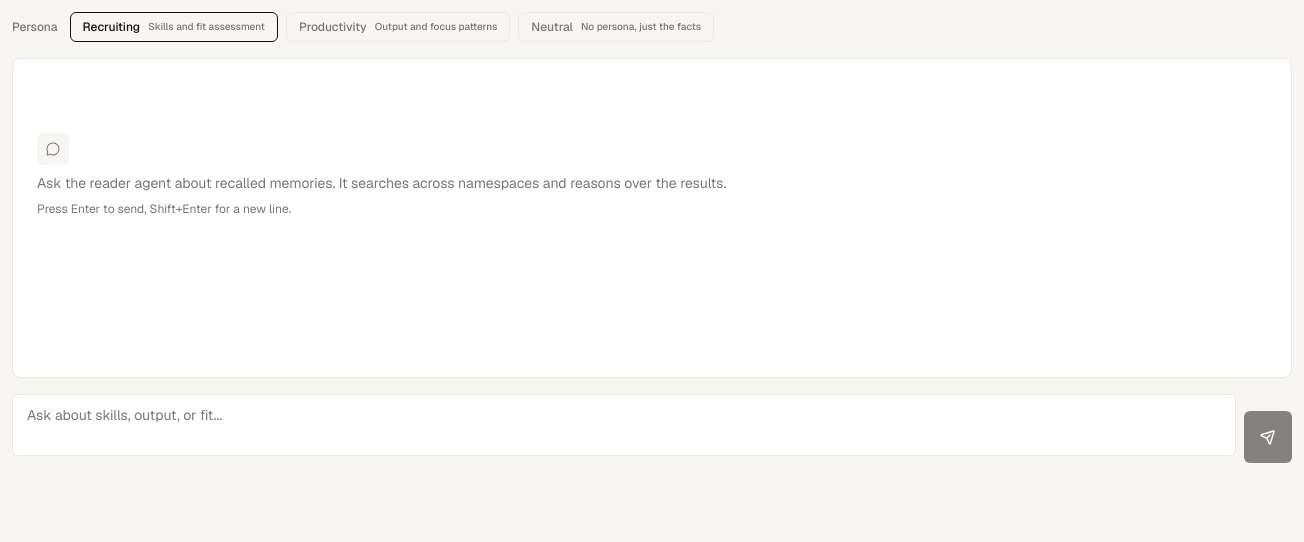
it: <ReaderChat /> › keeps the conversation and shows an error banner on failure
Type "first question" into the text box named "Message" at (624, 425), box [12,394,1236,456]
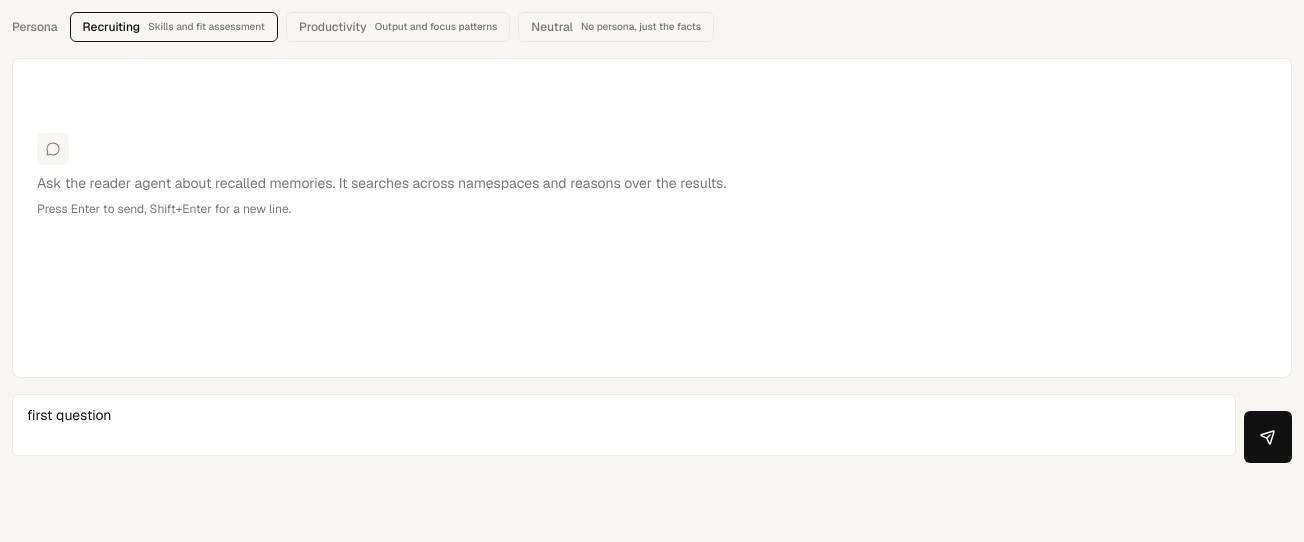
Submit the form named "Message", box [12,394,1292,463]
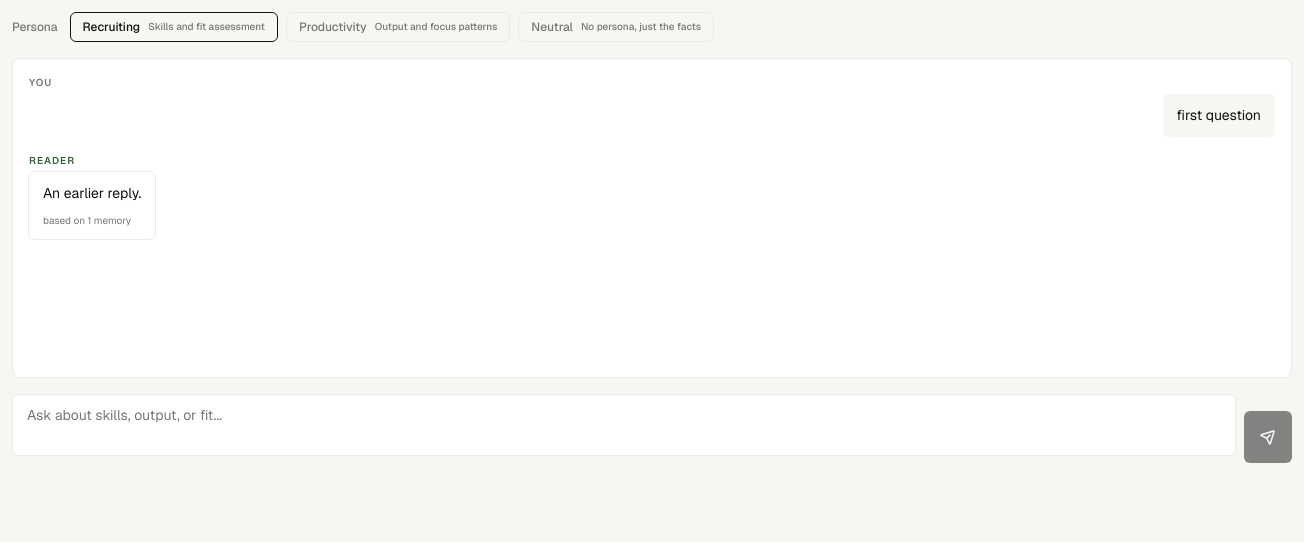
Check: the text "An earlier reply." is shown, box [43,182,141,205]
Type "doomed question" into the text box named "Message" at (624, 425), box [12,394,1236,456]
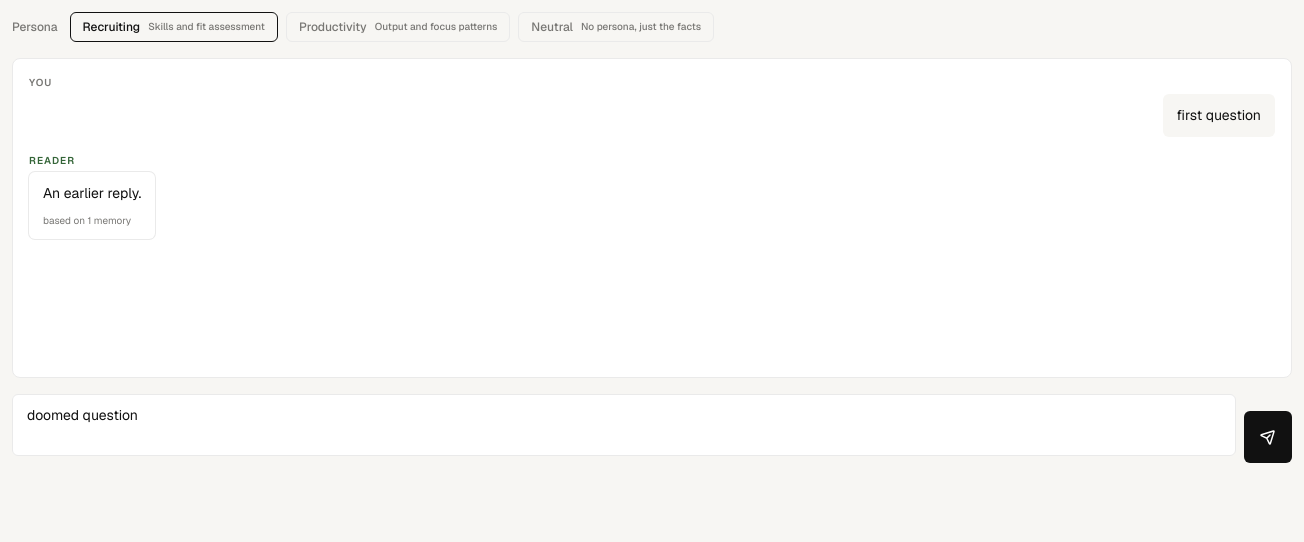
Submit the form named "Message", box [12,394,1292,463]
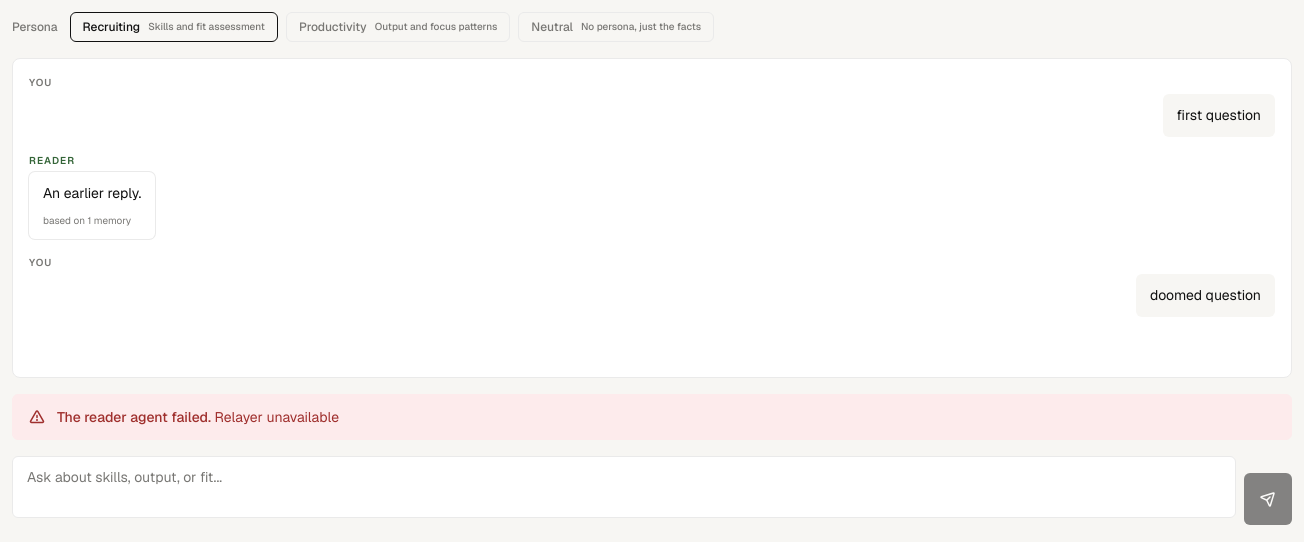
Check: the text "An earlier reply." is shown, box [43,182,141,205]
Check: the message shows "The reader agent failed.", box [57,408,211,426]
Check: the message shows "Relayer unavailable", box [215,408,339,426]
